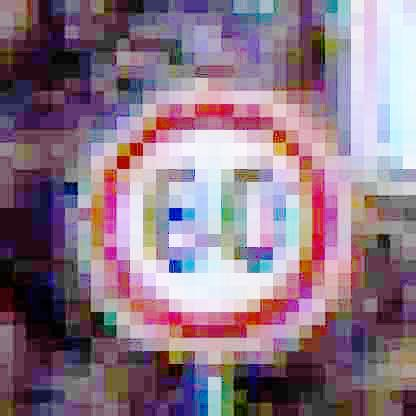Speed Limit -60-: (76, 89, 354, 355)
